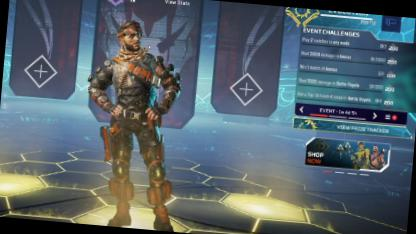Target: (78, 19, 194, 231)
